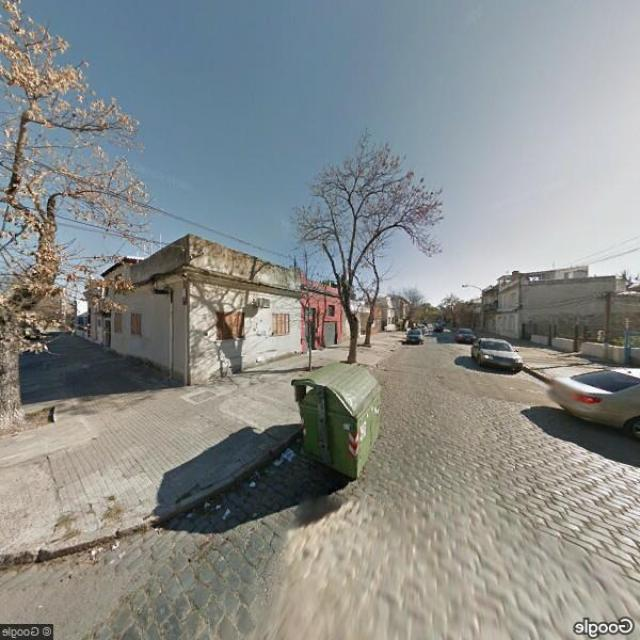garbage container: (271, 358, 391, 495)
